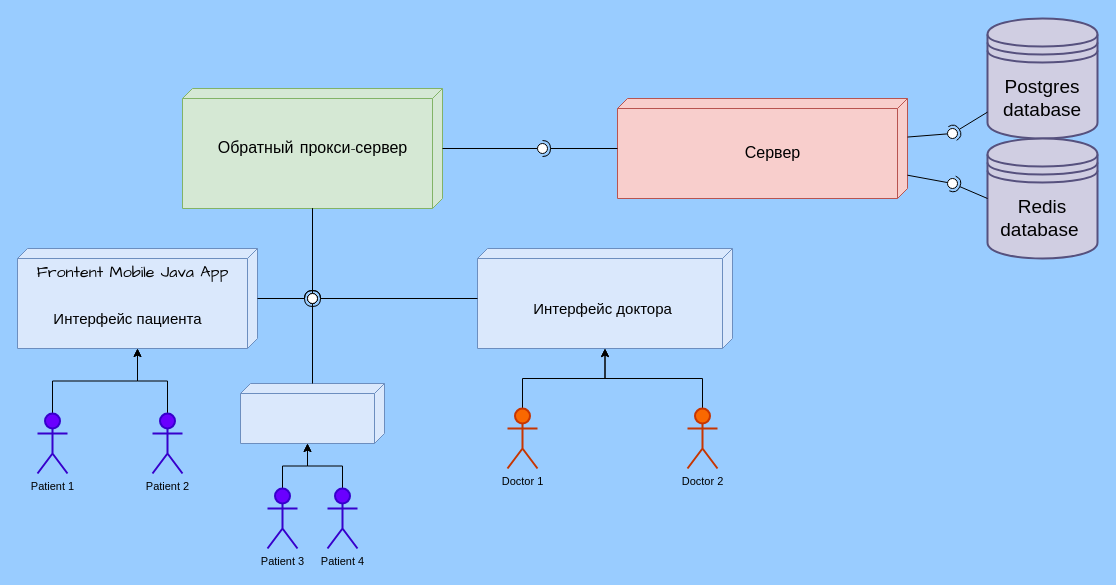
Some shapes in this 1116 by 585 pixel diagram are drawn without their labels. The box of each missing label's shape, as (x1, y1, x2, y2) in pixels:
Backend django app: (616, 98, 908, 198)
Frontent React App: (476, 248, 732, 348)
Nginx: (182, 88, 442, 208)
Telegram bot: (240, 382, 384, 444)
